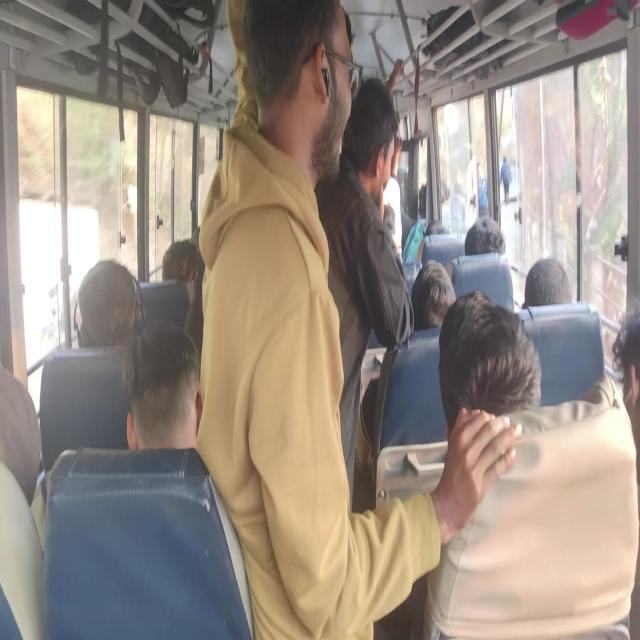person: (246, 5, 352, 187), (444, 312, 535, 453), (126, 327, 200, 472), (0, 395, 49, 545), (358, 92, 398, 206), (76, 263, 136, 329), (404, 268, 455, 324), (523, 263, 568, 318), (607, 315, 640, 386), (462, 224, 508, 272), (422, 174, 457, 223), (166, 238, 199, 277), (380, 206, 402, 238)
